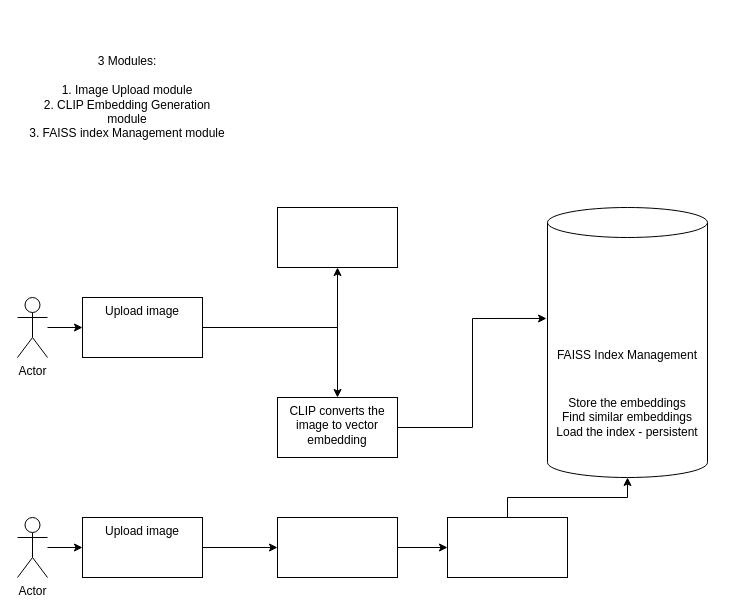
Image size: 735x615. Some labels were removed from this diagram. Here are the shapes that lost their labels. From the top down, the centre of each, then its label:
(x=337, y=237): Store the image in the system
(x=337, y=547): Convert the image to vector embedding using CLIP
(x=507, y=547): Find top-k Similar embeddings
